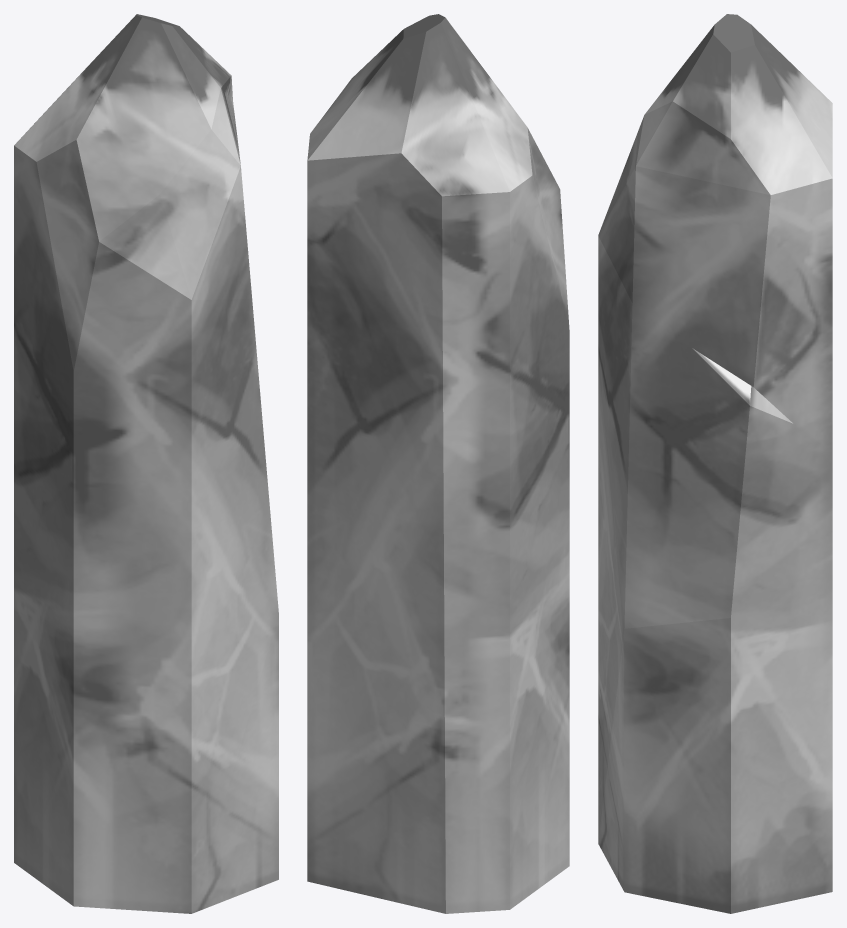
Rendered from Crystal06.fbx.
The picture shows the model from 3 angles, left to right: view 1: azimuth 30°, elevation 25°; view 2: azimuth 150°, elevation 25°; view 3: azimuth 270°, elevation 25°; orthographic projection.
Visible parts, largest first — view 1: Crystal06; view 2: Crystal06; view 3: Crystal06.
Part boxes in pixels (bbox=[...]): Crystal06: bbox=[14, 14, 278, 913]; Crystal06: bbox=[307, 14, 569, 913]; Crystal06: bbox=[598, 14, 832, 913].
Size of the model in its own units: 0.692 by 2.47 by 0.6274.
